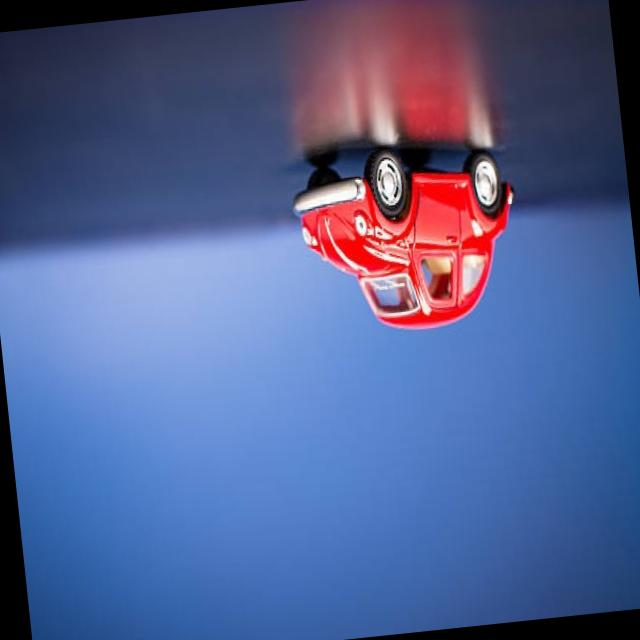car: (294, 127, 528, 341)
